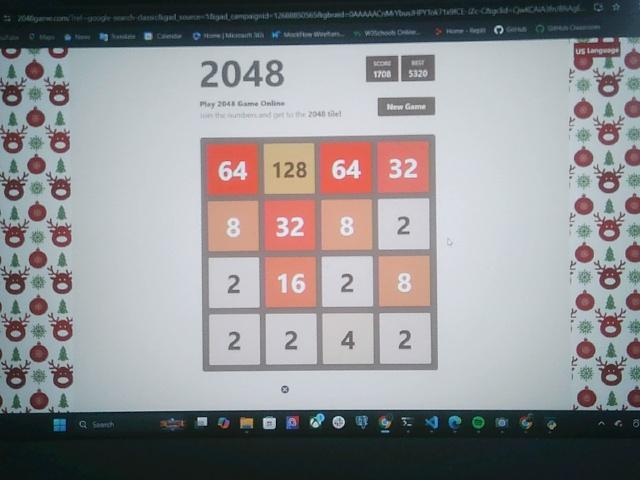board: (202, 137, 437, 368)
tile: (379, 313, 433, 364), (266, 313, 318, 365), (209, 257, 261, 308), (209, 315, 261, 366), (265, 143, 316, 194), (266, 258, 317, 309), (323, 315, 374, 365), (322, 258, 374, 307), (266, 201, 316, 251), (380, 256, 430, 306), (379, 143, 429, 193), (324, 143, 373, 194), (379, 200, 430, 249), (208, 144, 258, 193), (324, 201, 373, 250), (209, 202, 259, 250)
